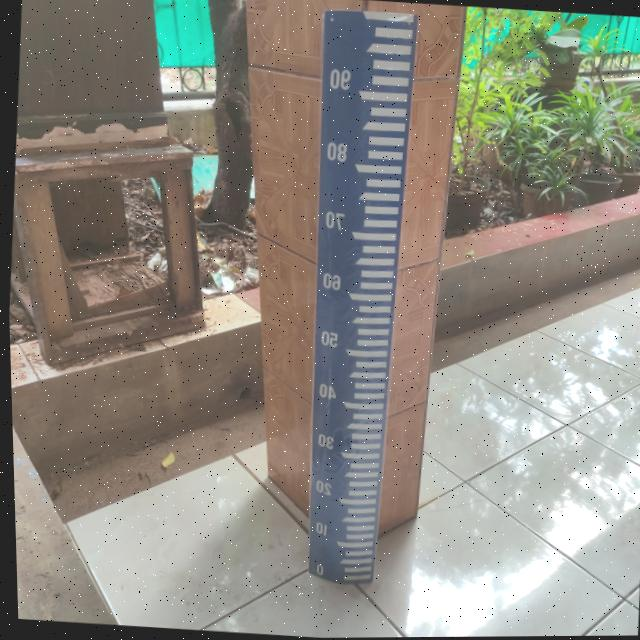water-meter: (259, 0, 443, 597)
